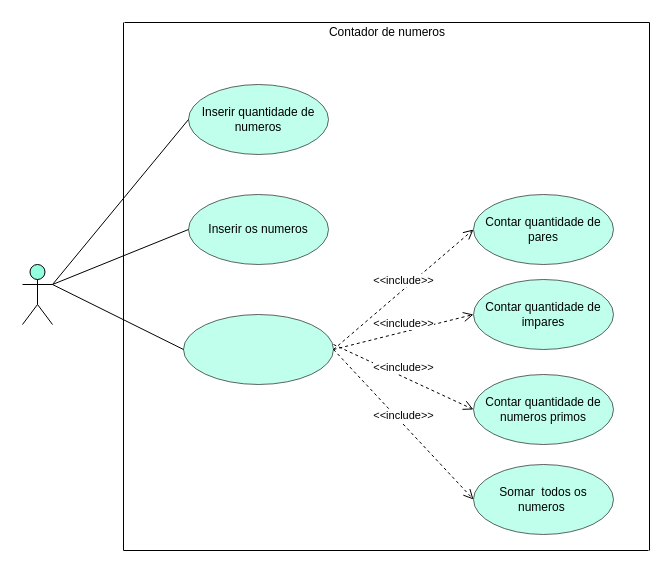
The diagram is 672 pixels wide and 573 high, and some of its shapes have lost their labels. The centre of each missing label's shape, as x and y in pixels:
"Exibir a quantidade de pares/impares/ primos/soma" belongs at point (258, 349).
"Usuario" belongs at point (37, 294).
